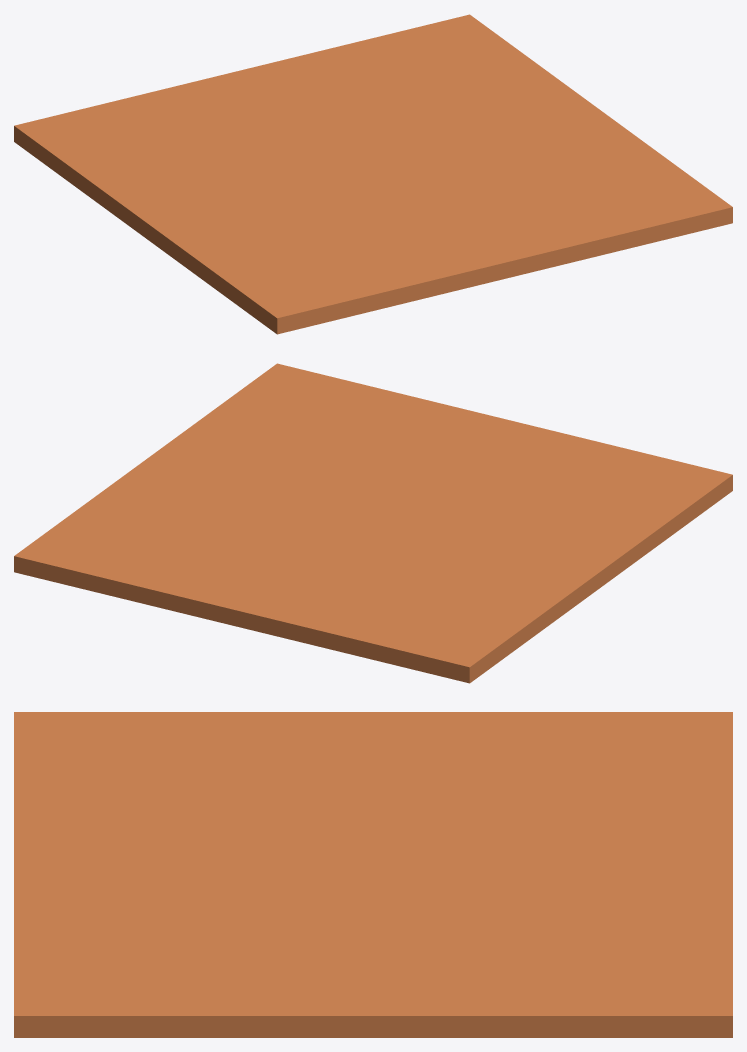
File: old_goban.obj
3 renders of one model, top to bottom at view 1: azimuth 30°, elevation 25°; view 2: azimuth 150°, elevation 25°; view 3: azimuth 270°, elevation 25°, orthographic. The views are drawn at different scales.
Visible parts, largest first — view 1: pCube1; view 2: pCube1; view 3: pCube1.
Part boxes in pixels (bbox=[...]): pCube1: bbox=[14, 14, 732, 334]; pCube1: bbox=[14, 363, 732, 683]; pCube1: bbox=[14, 712, 732, 1037].
Size of the model in its own units: 11.65 by 0.3948 by 11.65.
